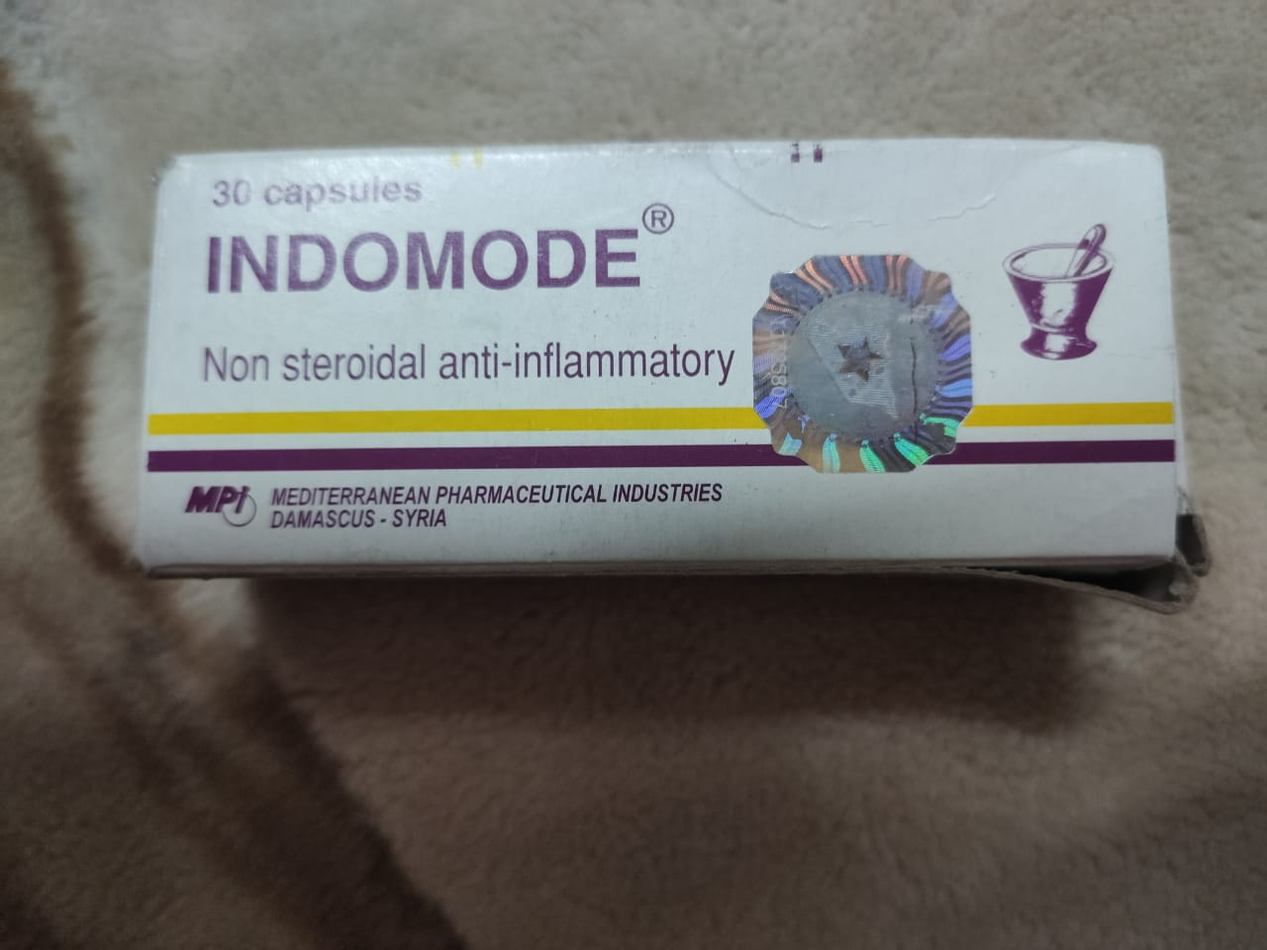Medicine: (129, 139, 1188, 567)
